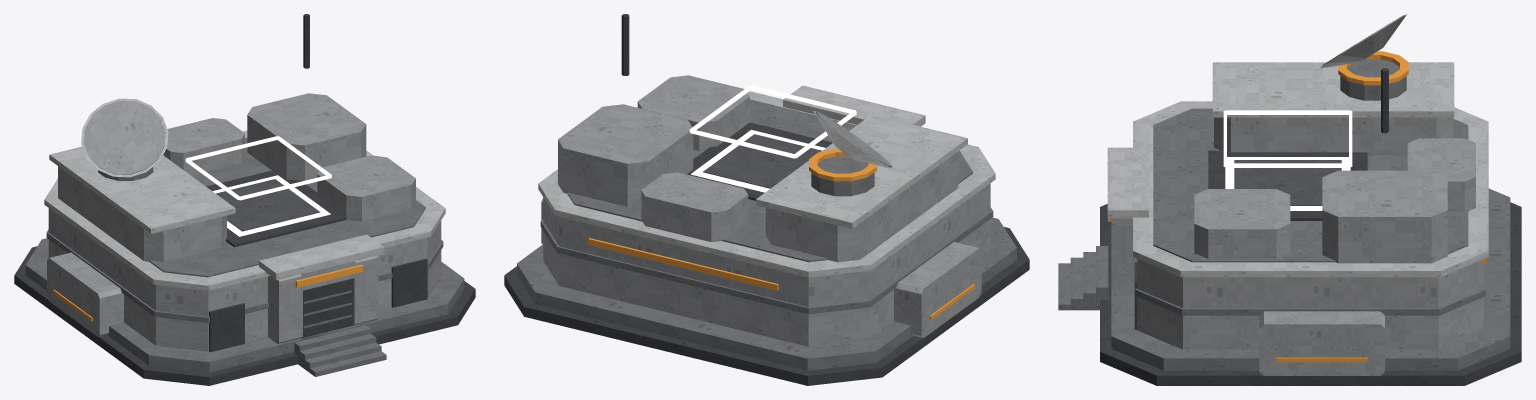
The model's file is storage_lod2.glb.
3 views of the same model, side by side, from view 1: azimuth 30°, elevation 25°; view 2: azimuth 150°, elevation 25°; view 3: azimuth 270°, elevation 25° (orthographic). The views are drawn at different scales.
Visible parts, largest first — view 1: storage_base_body.002, storage_dish_body.002, storage_hologram_glow.002, storage_door_body.002, storage_base_trim.002; view 2: storage_base_body.002, storage_hologram_glow.002, storage_base_trim.002, storage_dish_body.002; view 3: storage_base_body.002, storage_hologram_glow.002, storage_base_trim.002, storage_dish_body.002.
Part boxes in pixels (<box>): storage_base_body.002: <box>14,14,475,385</box>; storage_dish_body.002: <box>81,98,168,177</box>; storage_hologram_glow.002: <box>185,136,331,236</box>; storage_door_body.002: <box>302,278,352,337</box>; storage_base_trim.002: <box>53,264,363,321</box>; storage_base_body.002: <box>504,14,1029,385</box>; storage_hologram_glow.002: <box>689,85,856,192</box>; storage_base_trim.002: <box>588,148,974,320</box>; storage_dish_body.002: <box>813,111,893,168</box>; storage_base_body.002: <box>1058,59,1521,385</box>; storage_hologram_glow.002: <box>1223,110,1352,210</box>; storage_base_trim.002: <box>1107,51,1486,362</box>; storage_dish_body.002: <box>1320,14,1406,68</box>.
Size of the model in its own units: 4.05 by 2.65 by 4.06.
Materials: 3 (1 with a texture image).
